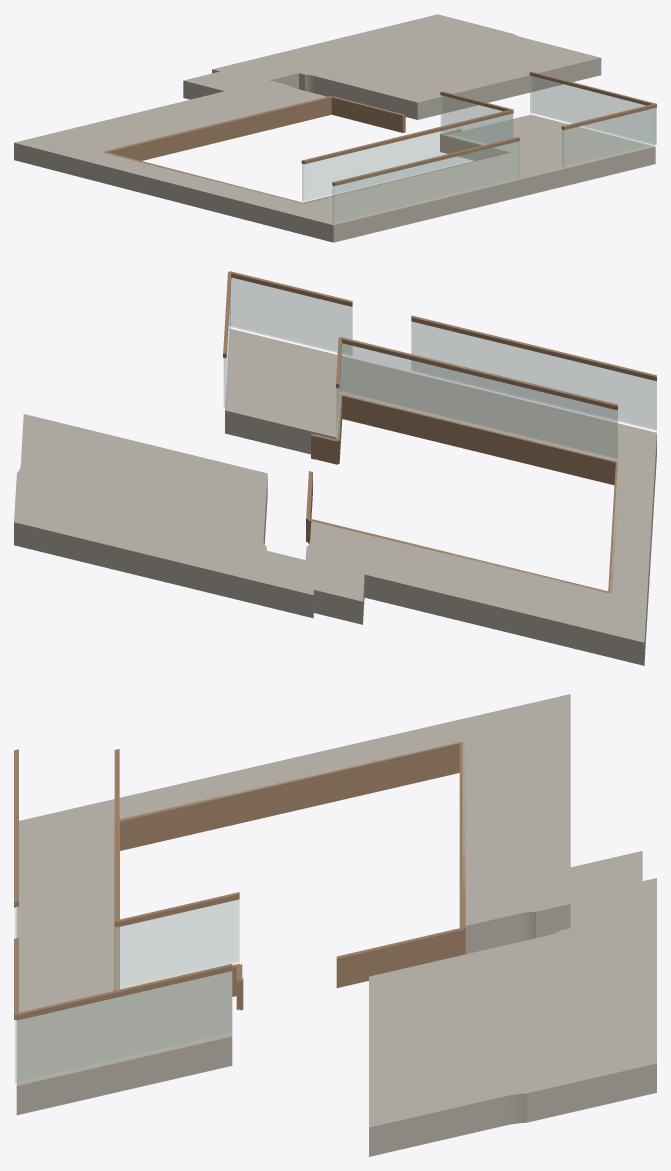
File: PERIMETER_794_r002.glb
The picture shows the model from 3 angles, top to bottom: view 1: azimuth 30°, elevation 25°; view 2: azimuth 150°, elevation 25°; view 3: azimuth 270°, elevation 25°; orthographic projection. The views are drawn at different scales.
Visible parts, largest first — view 1: G2P_794_TERRACE_r002, G2P_794_RearGuardGlass_0, G2P_794_OuterGuard_2, G2P_794_OuterGuard_0, G2P_794_PitEdge_0_0, G2P_794_OuterGuard_1, G2P_794_RearGuardGlass_1, G2P_794_PitEdge_5_0, G2P_794_RearGuardRail_0, G2P_794_OuterRail_2, G2P_794_PitEdge_3_0, G2P_794_OuterRail_0 (+4 smaller); view 2: G2P_794_TERRACE_r002, G2P_794_RearGuardGlass_0, G2P_794_OuterGuard_2, G2P_794_PitEdge_2_0, G2P_794_OuterGuard_1, G2P_794_RearGuardRail_0, G2P_794_OuterRail_2, G2P_794_PitEdge_0_0, G2P_794_OuterRail_1, G2P_794_PitEdge_4_0; view 3: G2P_794_TERRACE_r002, G2P_794_OuterGuard_0, G2P_794_PitEdge_1_0, G2P_794_RearGuardGlass_1, G2P_794_PitEdge_5_0, G2P_794_OuterRail_0, G2P_794_PitEdge_0_0, G2P_794_RearGuardRail_0, G2P_794_RearGuardRail_1, G2P_794_OuterRail_2.
Part boxes in pixels (x1=…): G2P_794_TERRACE_r002: x1=14, y1=14, x2=655, y2=242; G2P_794_RearGuardGlass_0: x1=302, y1=114, x2=512, y2=201; G2P_794_OuterGuard_2: x1=332, y1=141, x2=519, y2=223; G2P_794_OuterGuard_0: x1=530, y1=76, x2=656, y2=144; G2P_794_PitEdge_0_0: x1=103, y1=96, x2=332, y2=160; G2P_794_OuterGuard_1: x1=562, y1=108, x2=656, y2=167; G2P_794_RearGuardGlass_1: x1=441, y1=95, x2=512, y2=143; G2P_794_PitEdge_5_0: x1=331, y1=96, x2=405, y2=132; G2P_794_RearGuardRail_0: x1=301, y1=109, x2=513, y2=164; G2P_794_OuterRail_2: x1=332, y1=137, x2=519, y2=185; G2P_794_PitEdge_3_0: x1=440, y1=134, x2=509, y2=160; G2P_794_OuterRail_0: x1=529, y1=71, x2=656, y2=105; G2P_794_TERRACE_r002: x1=14, y1=328, x2=656, y2=665; G2P_794_RearGuardGlass_0: x1=340, y1=343, x2=617, y2=459; G2P_794_OuterGuard_2: x1=411, y1=322, x2=656, y2=430; G2P_794_PitEdge_2_0: x1=340, y1=393, x2=617, y2=484; G2P_794_OuterGuard_1: x1=230, y1=278, x2=352, y2=355; G2P_794_RearGuardRail_0: x1=340, y1=337, x2=617, y2=410; G2P_794_OuterRail_2: x1=411, y1=315, x2=656, y2=381; G2P_794_PitEdge_0_0: x1=308, y1=518, x2=609, y2=593; G2P_794_OuterRail_1: x1=229, y1=271, x2=352, y2=306; G2P_794_PitEdge_4_0: x1=313, y1=433, x2=337, y2=464; G2P_794_TERRACE_r002: x1=16, y1=694, x2=656, y2=1156; G2P_794_OuterGuard_0: x1=17, y1=971, x2=231, y2=1083; G2P_794_PitEdge_1_0: x1=119, y1=741, x2=462, y2=850; G2P_794_RearGuardGlass_1: x1=117, y1=899, x2=239, y2=989; G2P_794_PitEdge_5_0: x1=336, y1=927, x2=462, y2=987; G2P_794_OuterRail_0: x1=16, y1=964, x2=232, y2=1020; G2P_794_PitEdge_0_0: x1=459, y1=741, x2=465, y2=954; G2P_794_RearGuardRail_0: x1=114, y1=749, x2=119, y2=926; G2P_794_RearGuardRail_1: x1=117, y1=892, x2=239, y2=927; G2P_794_OuterRail_2: x1=14, y1=749, x2=18, y2=907.
Bounding box in the file's own units: 14.26 × 1.55 × 8.93.
